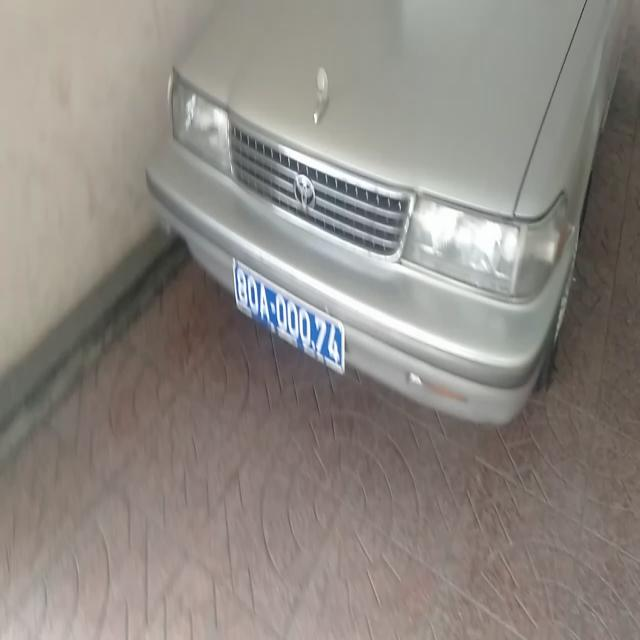bien_xanh: (227, 267, 346, 397)
